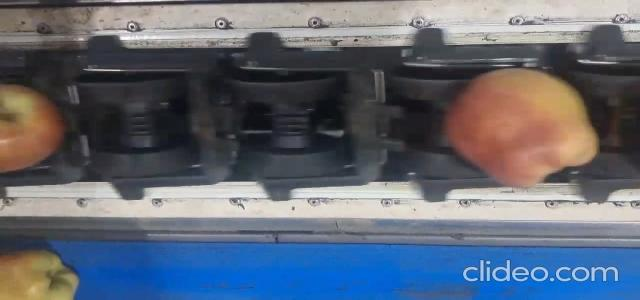apple: (446, 69, 598, 186)
